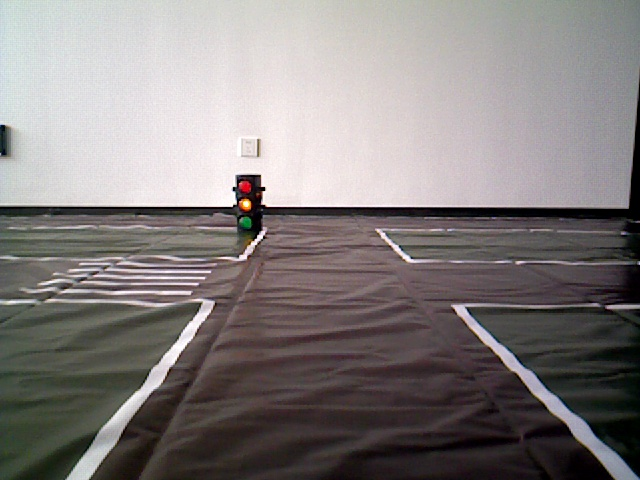yellow: (234, 174, 260, 229)
